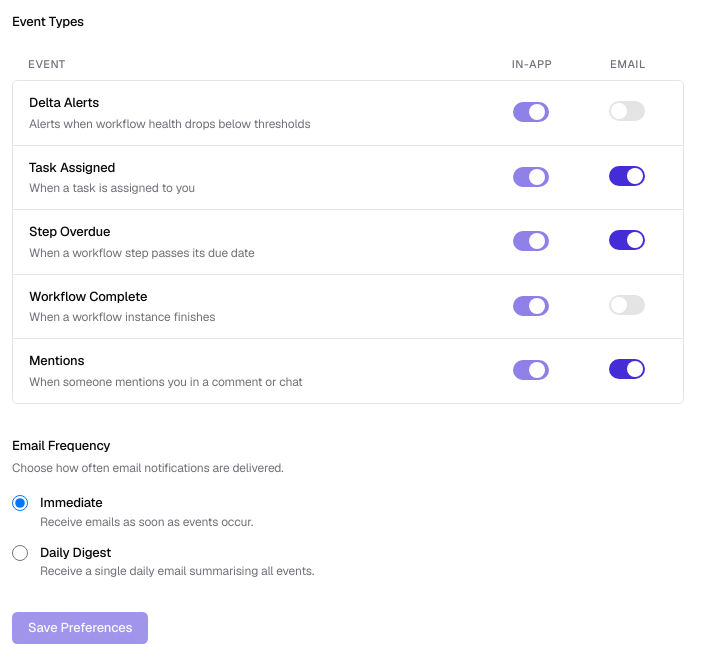
Test: NotificationPreferencesPanel › save button becomes enabled after toggling a preference
Expected: the text "Delta Alerts" is shown, [29,94,99,111]
Click the switch named "email notifications for delta alerts" at [627, 111], box [609,101,645,121]
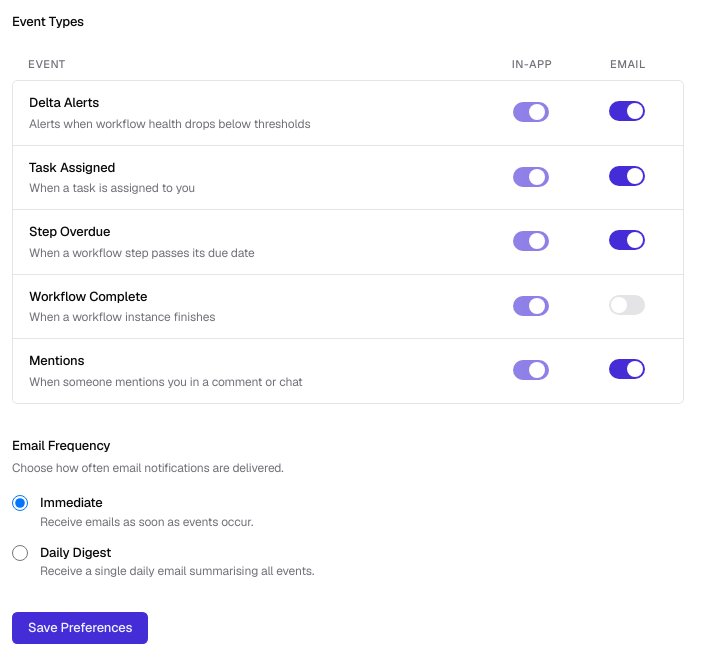
Expected: the button "Save Preferences" is enabled, [12,612,148,644]
